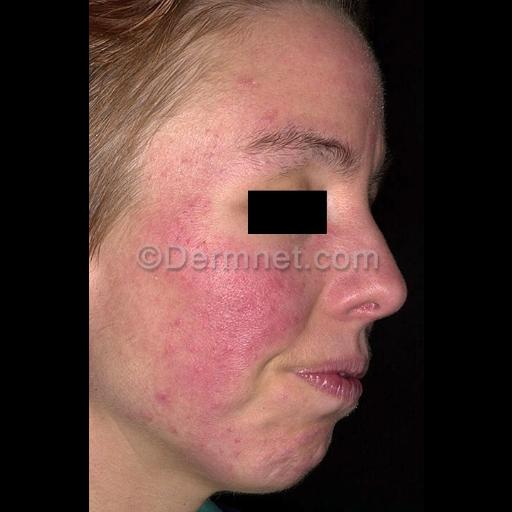Skin_Lesion: (224, 258, 266, 322), (145, 222, 205, 252), (221, 334, 255, 374), (198, 314, 212, 376), (178, 191, 214, 213), (232, 62, 254, 94), (248, 112, 280, 132), (154, 387, 172, 409), (315, 272, 329, 292)
